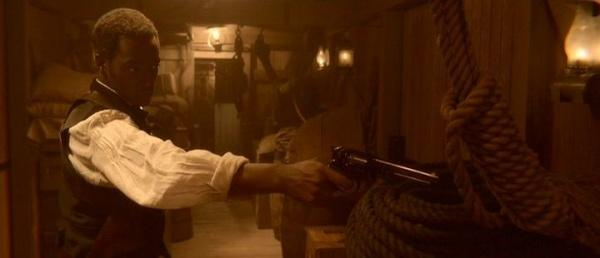Gun: (330, 146, 440, 190)
